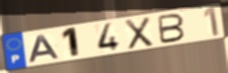1: (60, 26, 82, 59), (202, 5, 221, 38)
4: (96, 21, 122, 53)
A: (27, 34, 62, 64)
B: (157, 12, 187, 45)
X: (124, 15, 155, 51)
